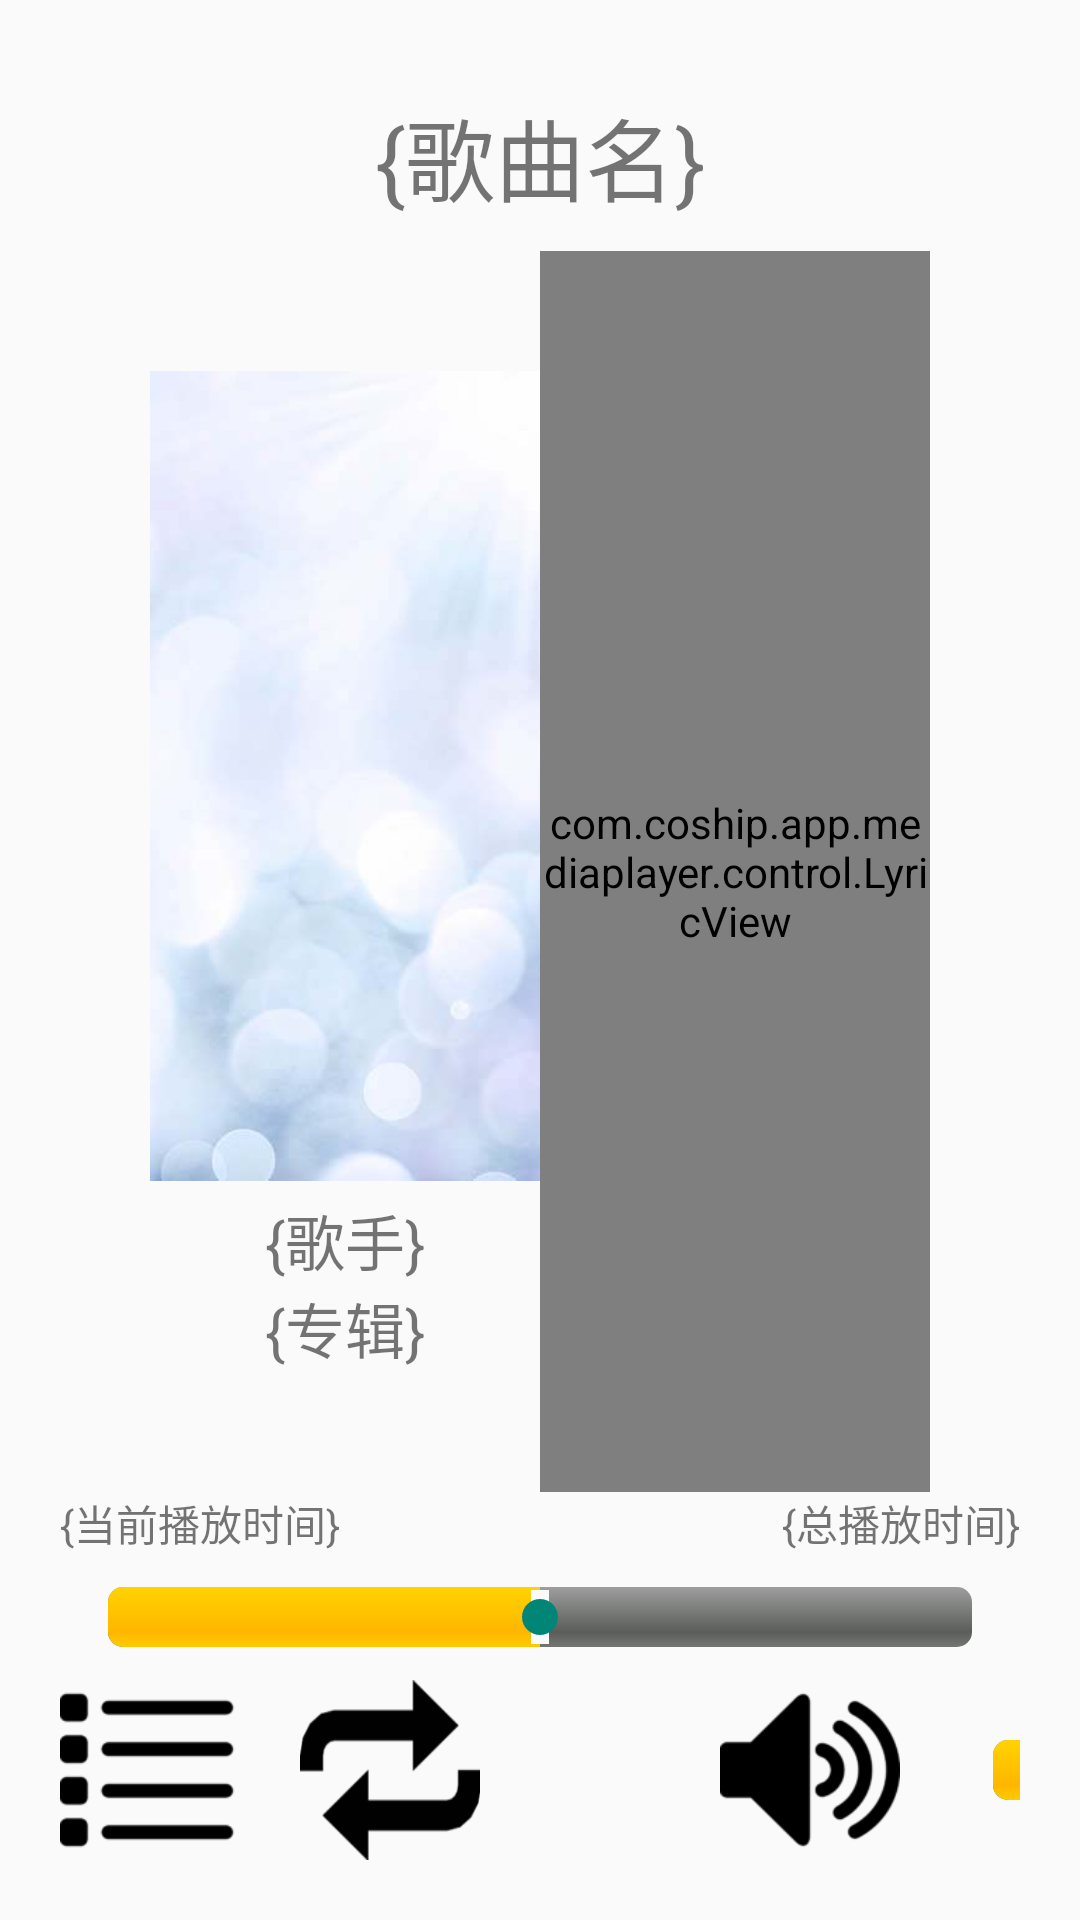

Where to tap for icons on this 1080 x 1920 app screen, as [x,y]:
list: [147,1770]
loop: [390,1770]
volume up: [810,1770]
